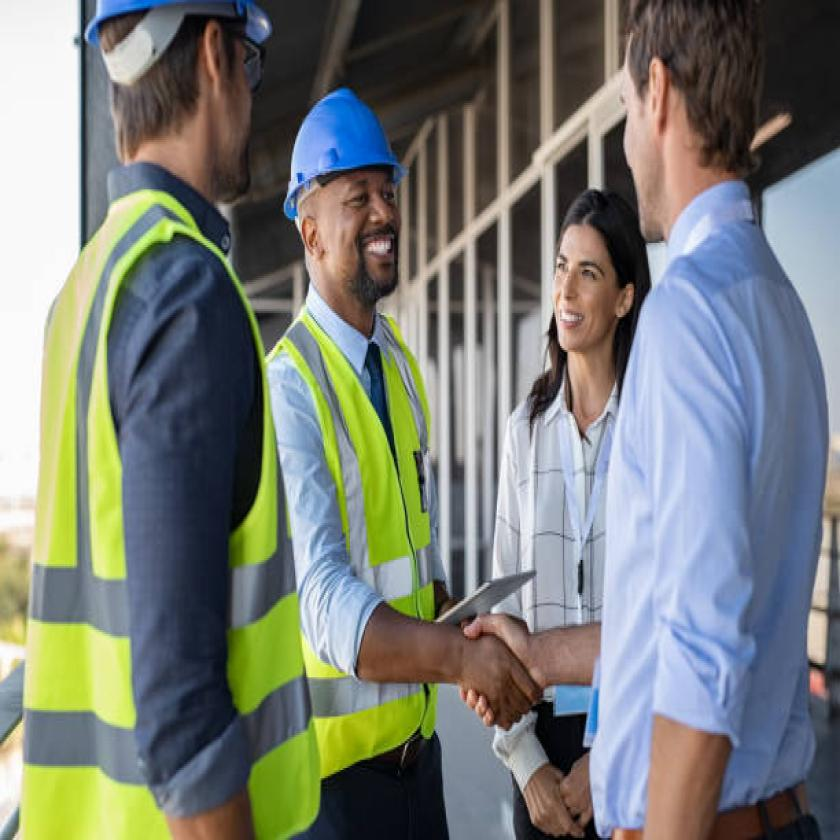Con_casco: (75, 0, 272, 201), (275, 80, 432, 311)
Sin_casco: (627, 0, 788, 277), (538, 180, 652, 390)
